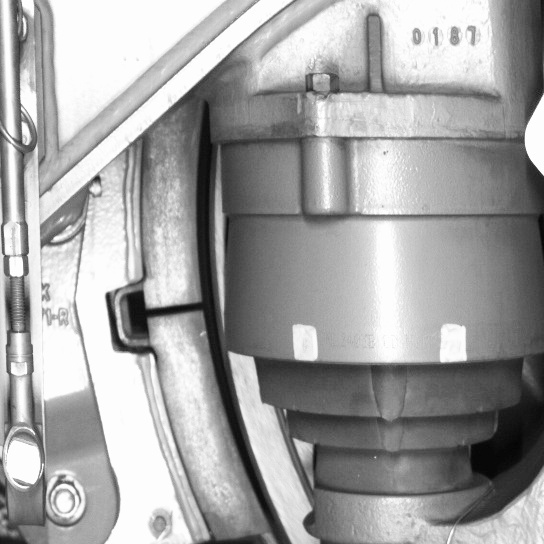KnifeSwitch: (152, 138, 296, 542)
